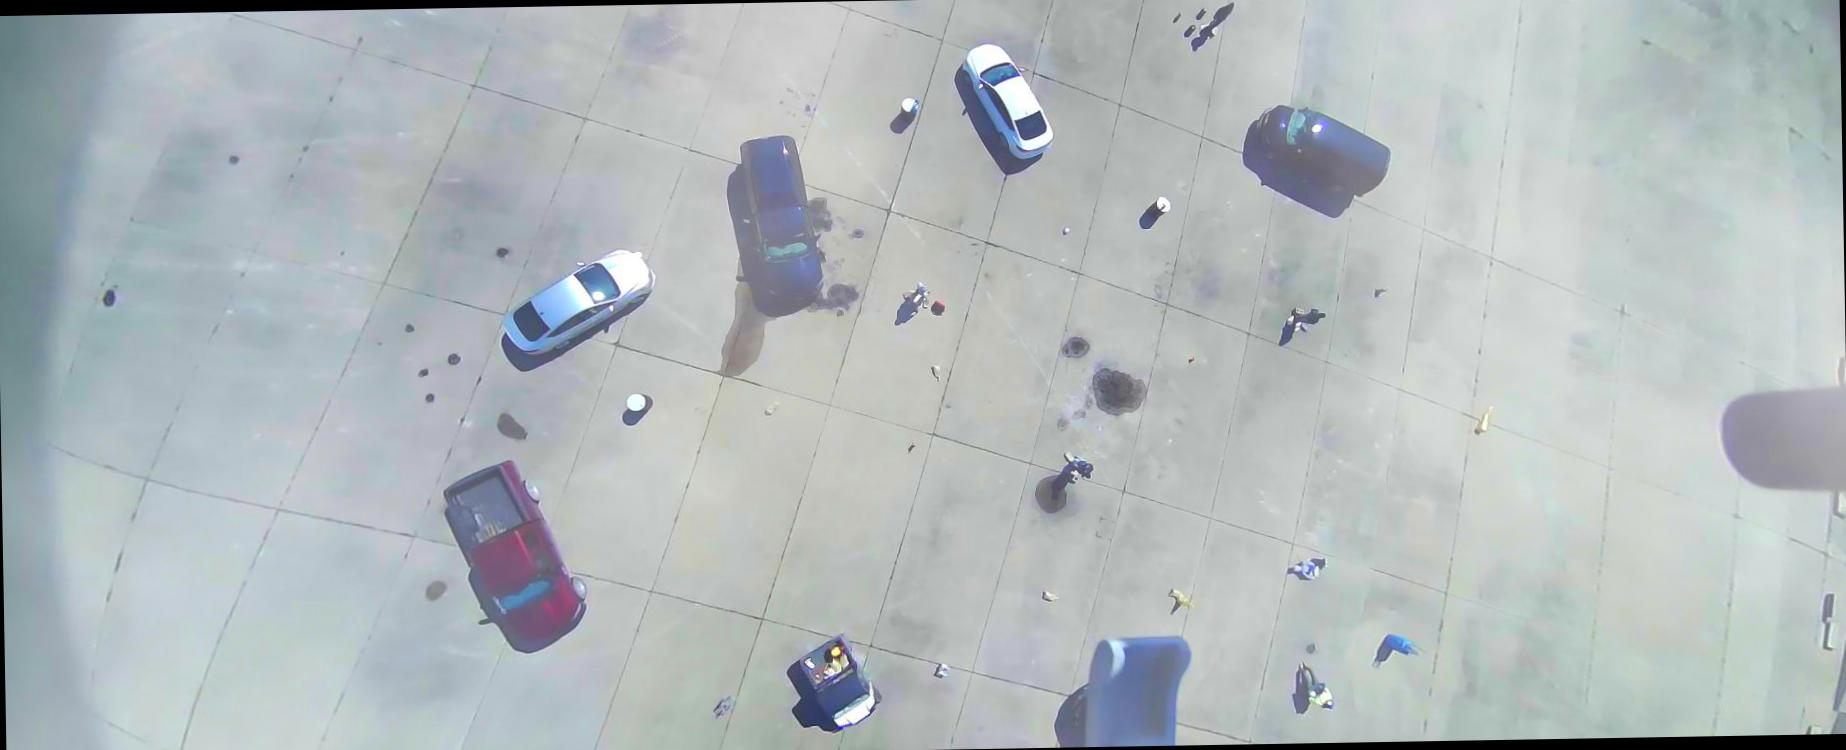vehicle: (441, 459, 586, 648), (499, 248, 657, 358), (738, 135, 825, 305), (1254, 104, 1392, 199), (961, 42, 1053, 161), (797, 633, 883, 730), (1071, 684, 1091, 746)
